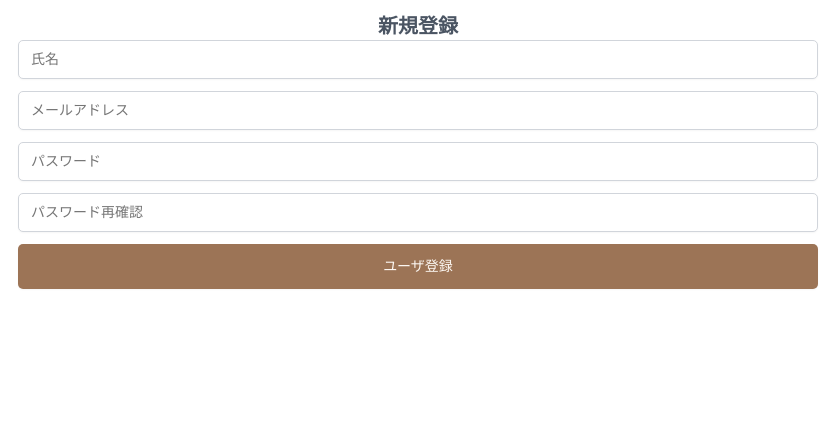
Test: SignupForm › バリデーション › 空のフォームを送信するとエラーが表示される
Click the button "ユーザ登録" at point(418, 266), box [18,244,818,289]
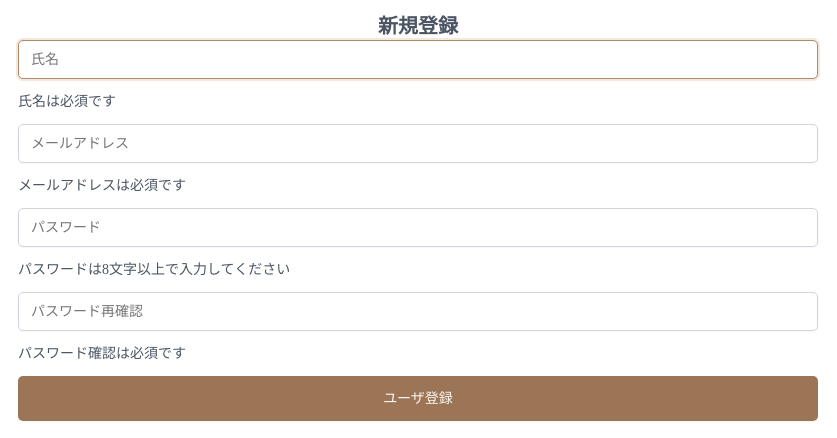
Expected: the text "氏名は必須です" is shown, [18,94,116,109]
Expected: the text "メールアドレスは必須です" is shown, [18,178,186,193]
Expected: the text "パスワードは8文字以上で入力してください" is shown, [18,262,290,277]
